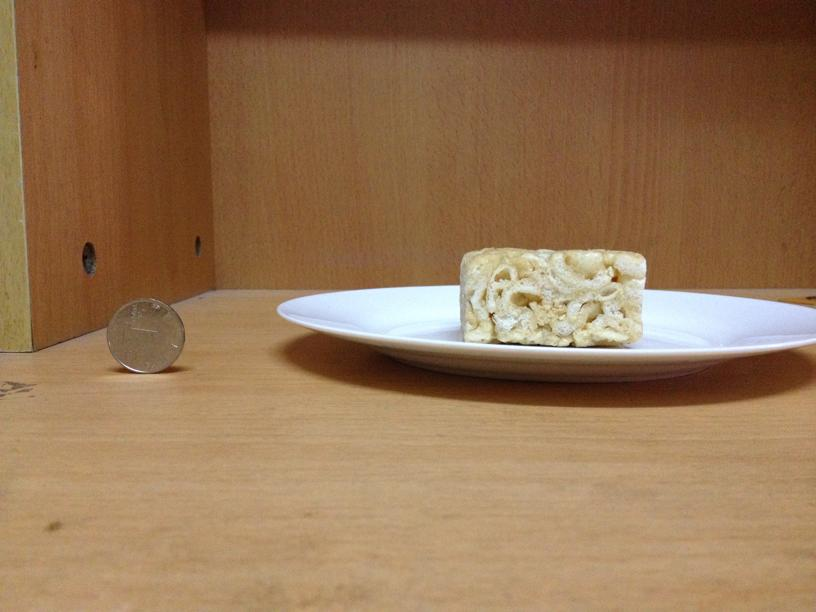coin: (106, 300, 185, 374)
sachima: (458, 246, 646, 349)
